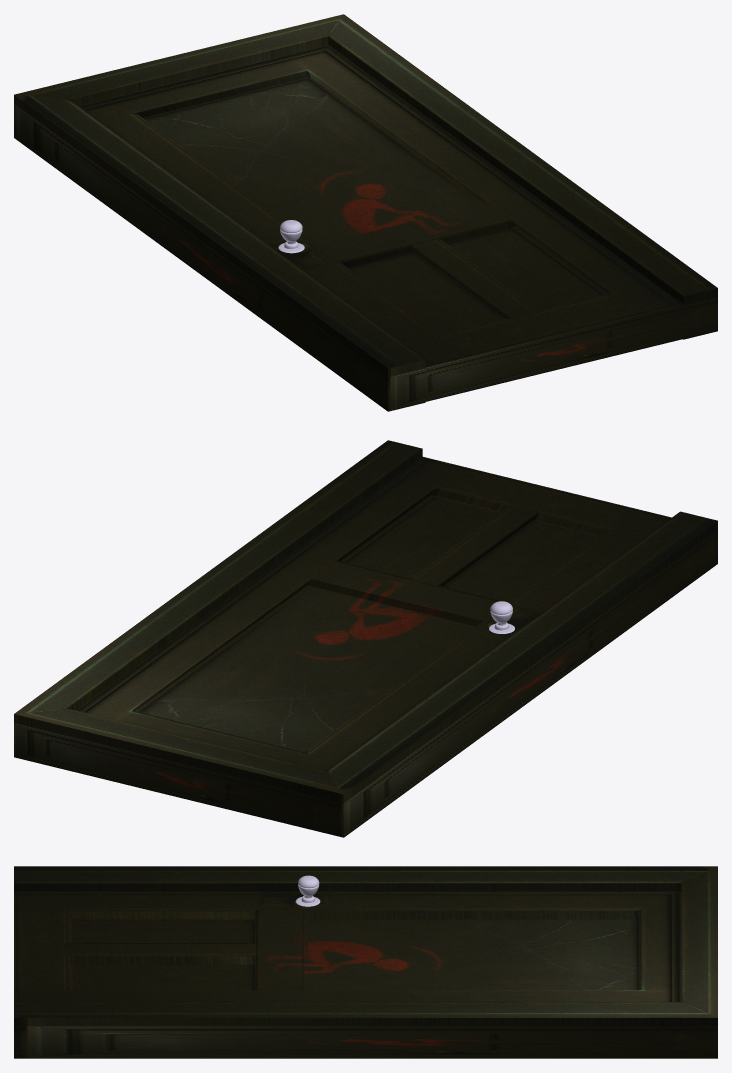
File: Gençlik Kapı.fbx
3 views of the same model, one above another, from view 1: azimuth 30°, elevation 25°; view 2: azimuth 150°, elevation 25°; view 3: azimuth 270°, elevation 25° (orthographic). The views are drawn at different scales.
Parts seen in each view (by area): view 1: Ergen Kapı, ERgen Kapı Çrçv; view 2: Ergen Kapı, ERgen Kapı Çrçv; view 3: Ergen Kapı, ERgen Kapı Çrçv.
Part boxes in pixels (box(x1,y1,x2,y2)): Ergen Kapı: box(79, 45, 683, 401); ERgen Kapı Çrçv: box(14, 14, 717, 411); Ergen Kapı: box(76, 457, 671, 771); ERgen Kapı Çrçv: box(14, 440, 717, 837); Ergen Kapı: box(14, 875, 681, 1001); ERgen Kapı Çrçv: box(14, 866, 717, 1058).
Size of the model in its own units: 200 by 35.05 by 393.
